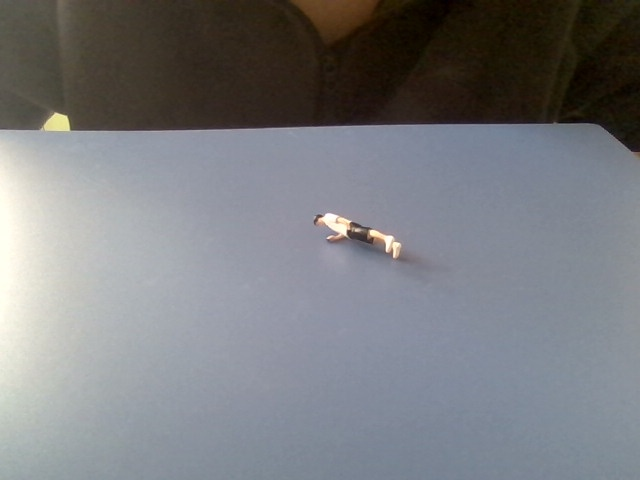fall: (306, 203, 406, 263)
